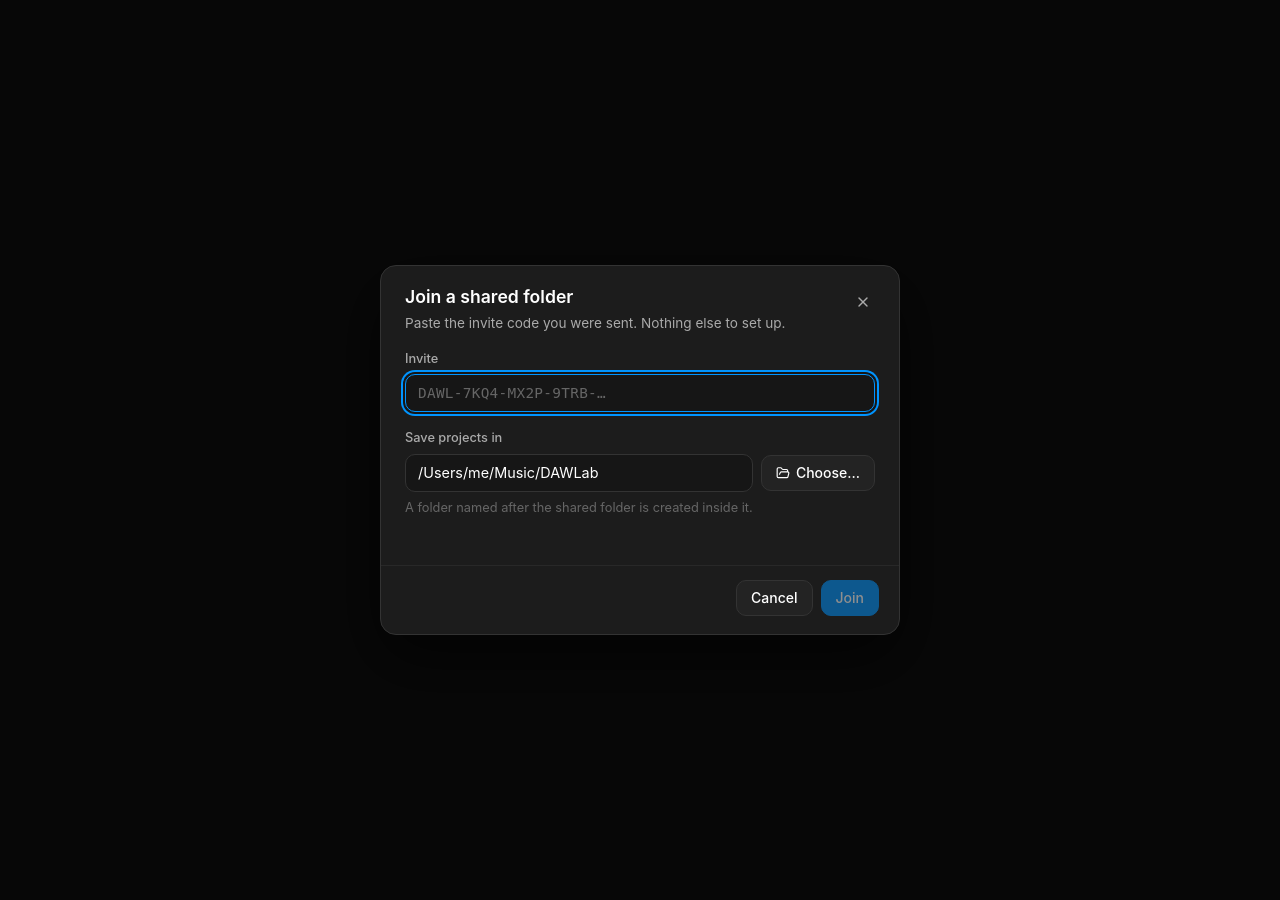
Test case: JoinFolderDialog › previews only the last of quickly typed values
The width and height of the screenshot is (1280, 900).
Type "DAWL-7KQ4-MX2P" into the field labelled "Invite" at (640, 393), box [405, 374, 875, 412]
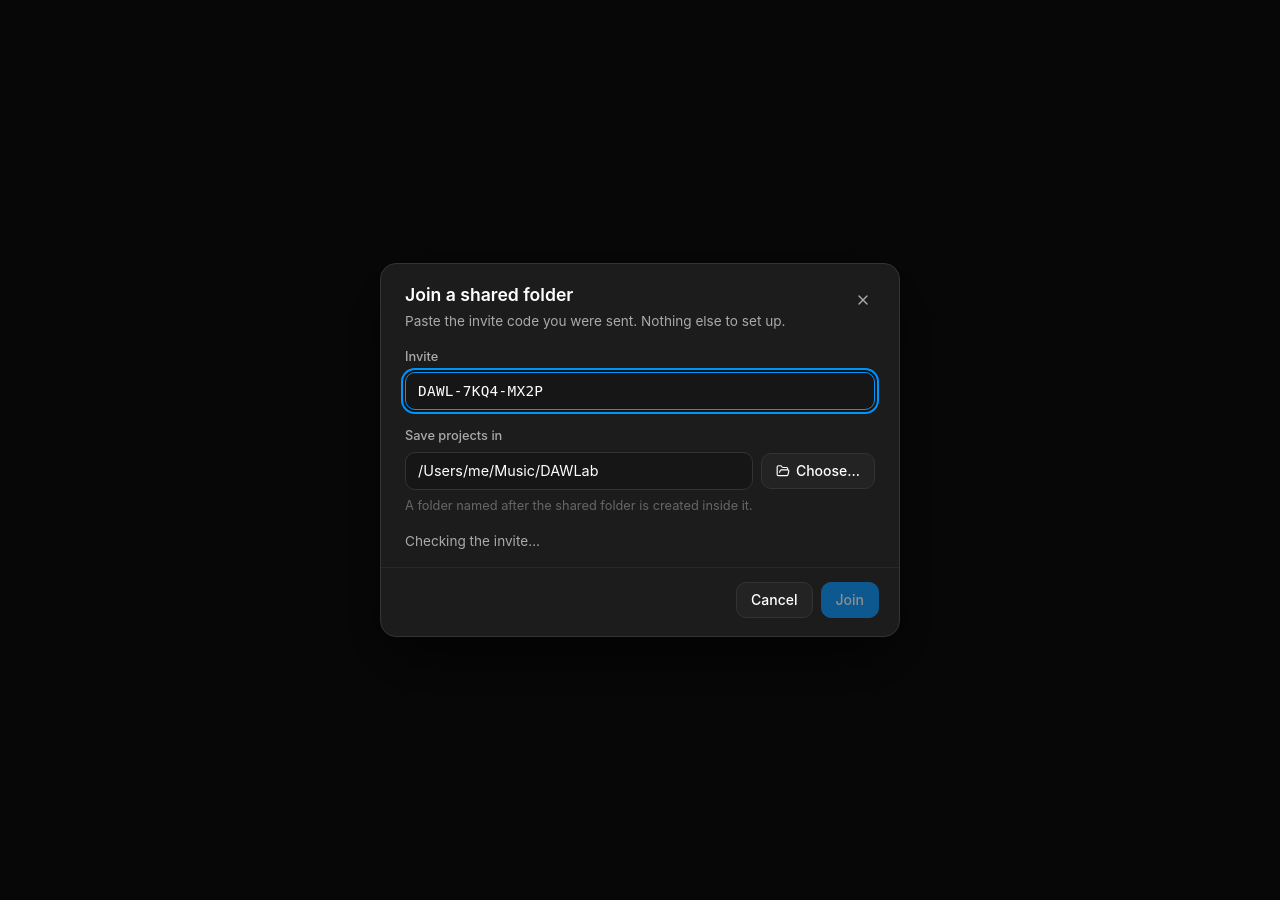
Replace the text in the field labelled "Invite" with "DAWL-7KQ4-MX2P-9TRB" at (640, 391), box [405, 372, 875, 410]
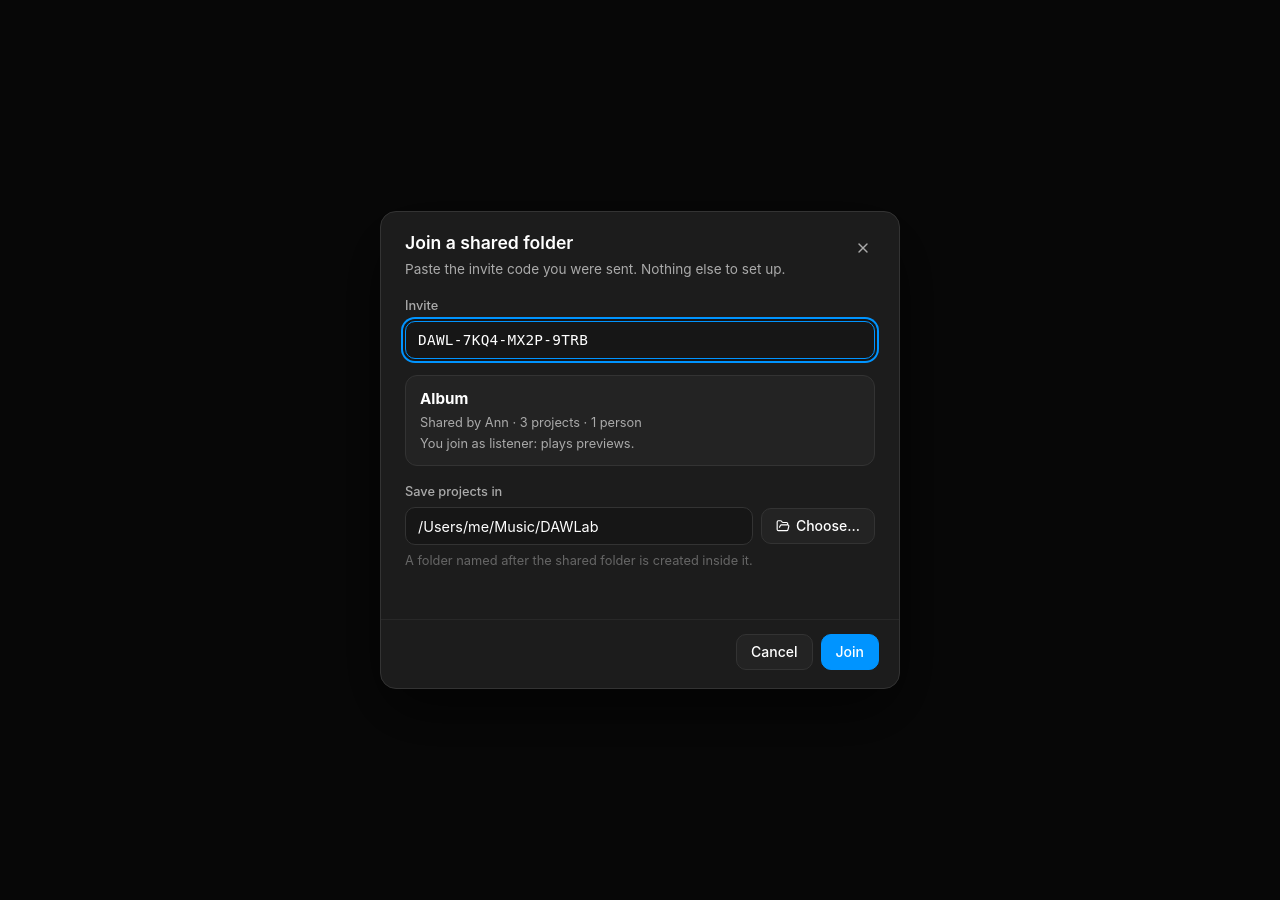
Expected: the text "Album" is shown, [420, 389, 468, 408]
